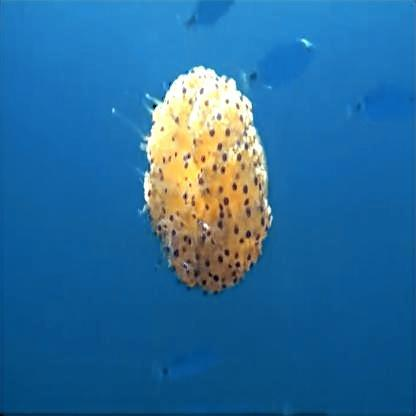Saltpeter: (242, 39, 316, 89), (152, 343, 232, 385), (343, 83, 415, 125), (176, 1, 232, 35)
StarThorn: (132, 71, 274, 295)
